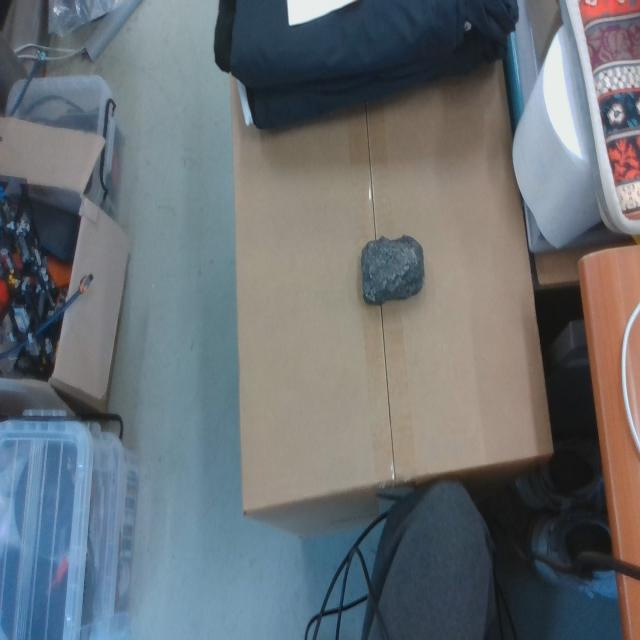stone: (361, 234, 425, 308)
